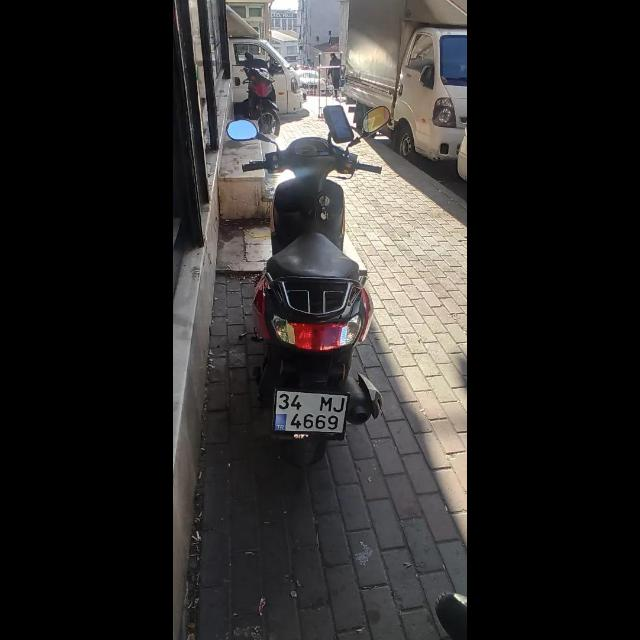Plaka: (274, 392, 348, 434)
